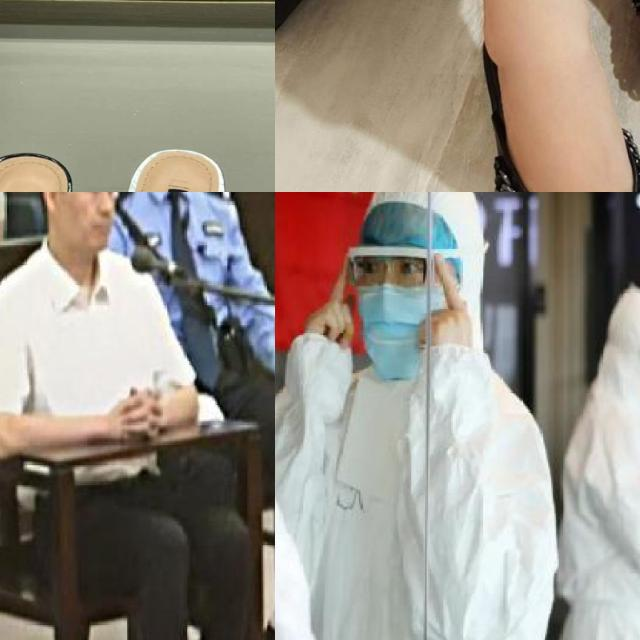No_Ear-Protection: (39, 192, 63, 217)
Sandals: (424, 0, 640, 192), (84, 117, 275, 192)
face_mask: (354, 252, 440, 389)
face_nomask: (69, 192, 120, 248)
glasses: (340, 242, 440, 300)
hand_noglove: (304, 254, 362, 355), (417, 252, 473, 355), (116, 386, 162, 440)
person: (0, 192, 249, 640), (107, 192, 275, 640)
